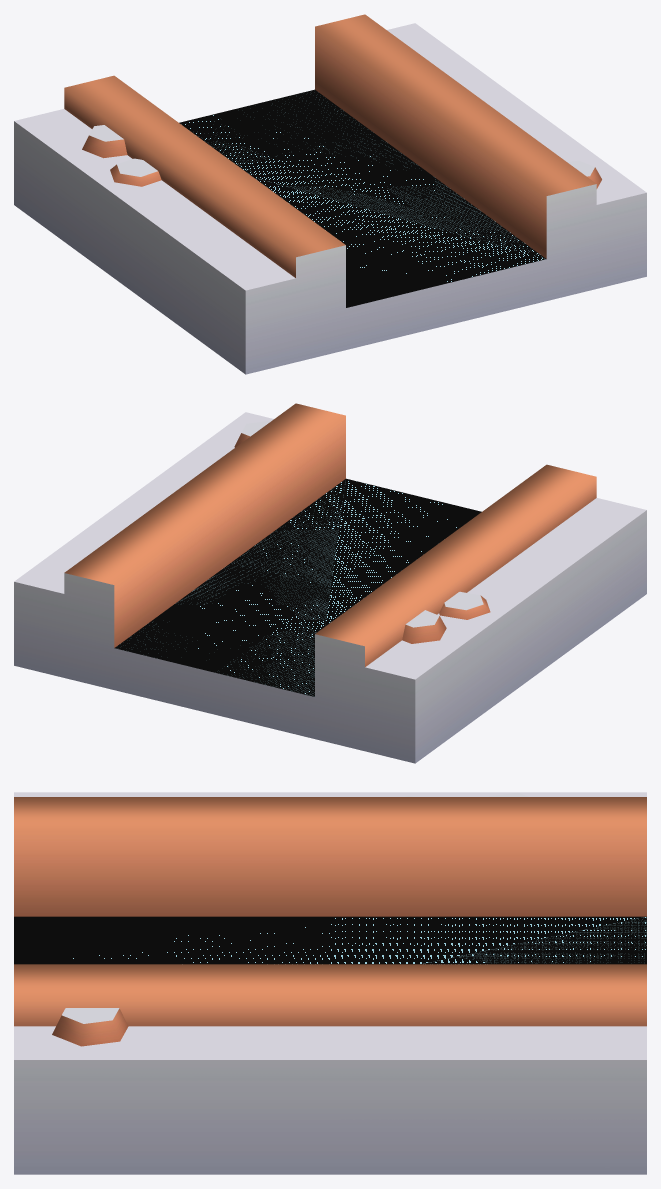
Rendered from kenney-tower-defense-snow-tile-river-straight.glb.
3 renders of one model, top to bottom at view 1: azimuth 30°, elevation 25°; view 2: azimuth 150°, elevation 25°; view 3: azimuth 270°, elevation 25°, orthographic. The views are drawn at different scales.
Parts seen in each view (by area): view 1: snow-tile-river-straight; view 2: snow-tile-river-straight; view 3: snow-tile-river-straight.
Part boxes in pixels (x1,y1,x2,y2): snow-tile-river-straight: (14,14,646,374); snow-tile-river-straight: (14,403,646,763); snow-tile-river-straight: (14,792,646,1174).
Bounding box in the file's own units: 1 × 0.25 × 1.
1 material, 1 textured.
